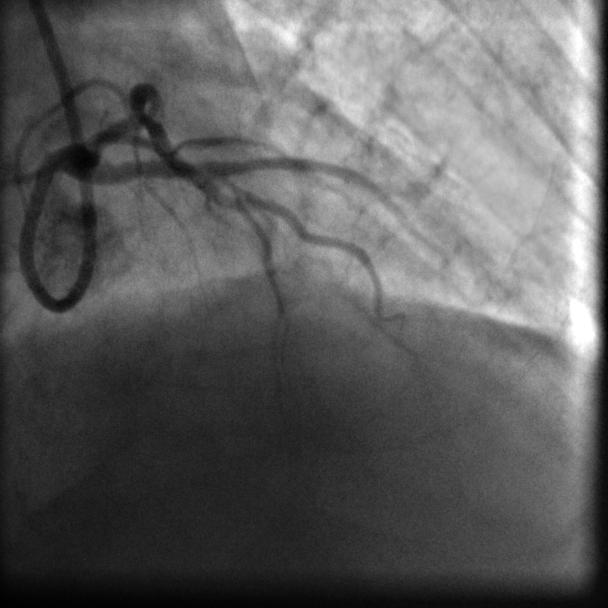Stenosis: (136, 100, 157, 132)
